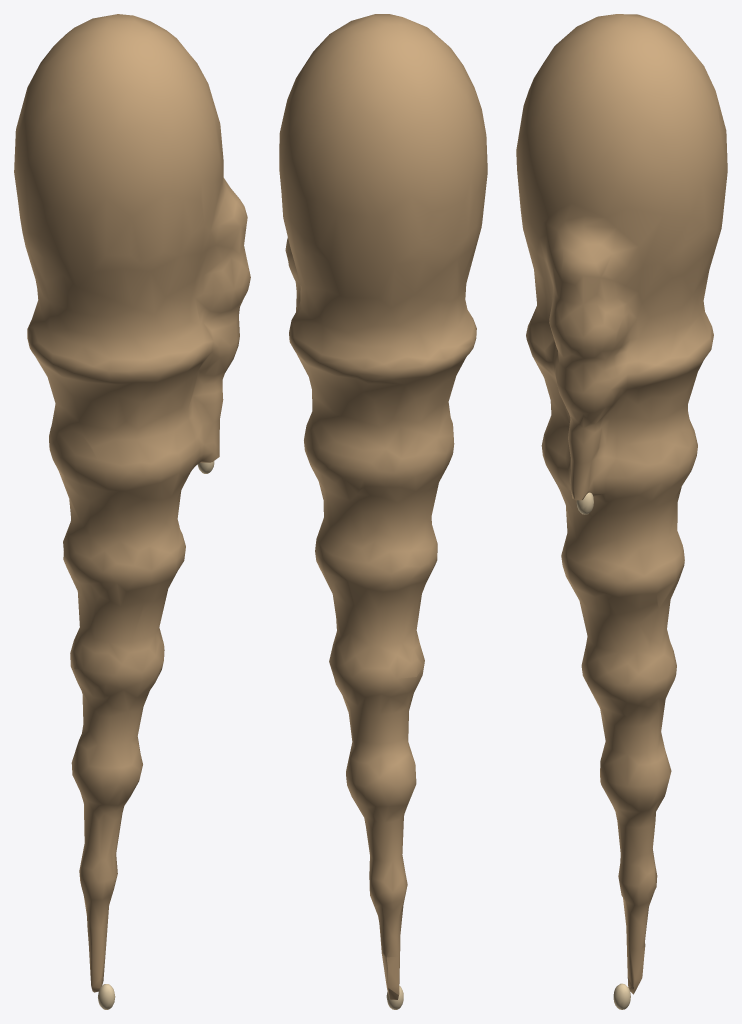
Rendered from stalactite-a.glb.
3 renders of one model, left to right at view 1: azimuth 30°, elevation 25°; view 2: azimuth 150°, elevation 25°; view 3: azimuth 270°, elevation 25°, orthographic.
Parts seen in each view (by area): view 1: calcite_0; view 2: calcite_0; view 3: calcite_0.
Part boxes in pixels (left/top/right/bottom): calcite_0: left=14, top=14, right=250, bottom=992; calcite_0: left=279, top=14, right=487, bottom=999; calcite_0: left=516, top=14, right=727, bottom=994.
Bounding box in the file's own units: 0.6348 × 2.98 × 0.5731.
